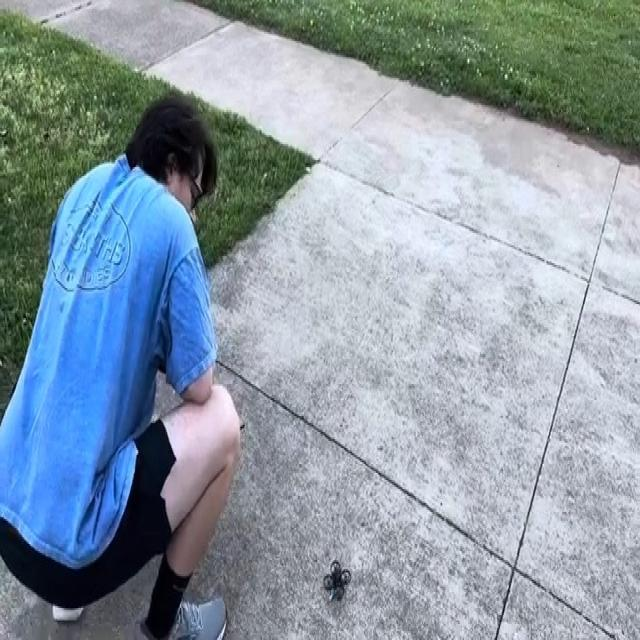drone: (313, 549, 358, 608)
